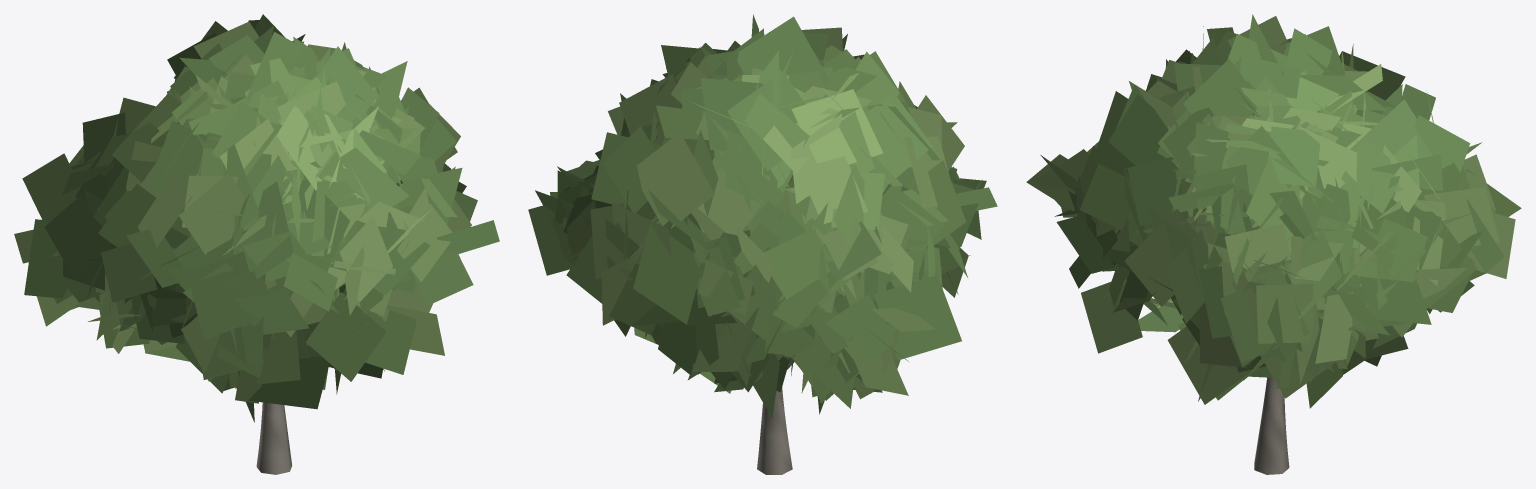
The model's file is beech_0.glb.
3 views of the same model, side by side, from view 1: azimuth 30°, elevation 25°; view 2: azimuth 150°, elevation 25°; view 3: azimuth 270°, elevation 25° (orthographic).
Visible parts, largest first — view 1: beech_0; view 2: beech_0; view 3: beech_0.
Part boxes in pixels (x1,y1,x2,y2): beech_0: [14, 14, 499, 474]; beech_0: [528, 14, 997, 474]; beech_0: [1026, 14, 1521, 474].
Bounding box in the file's own units: 0.9674 × 1 × 1.
